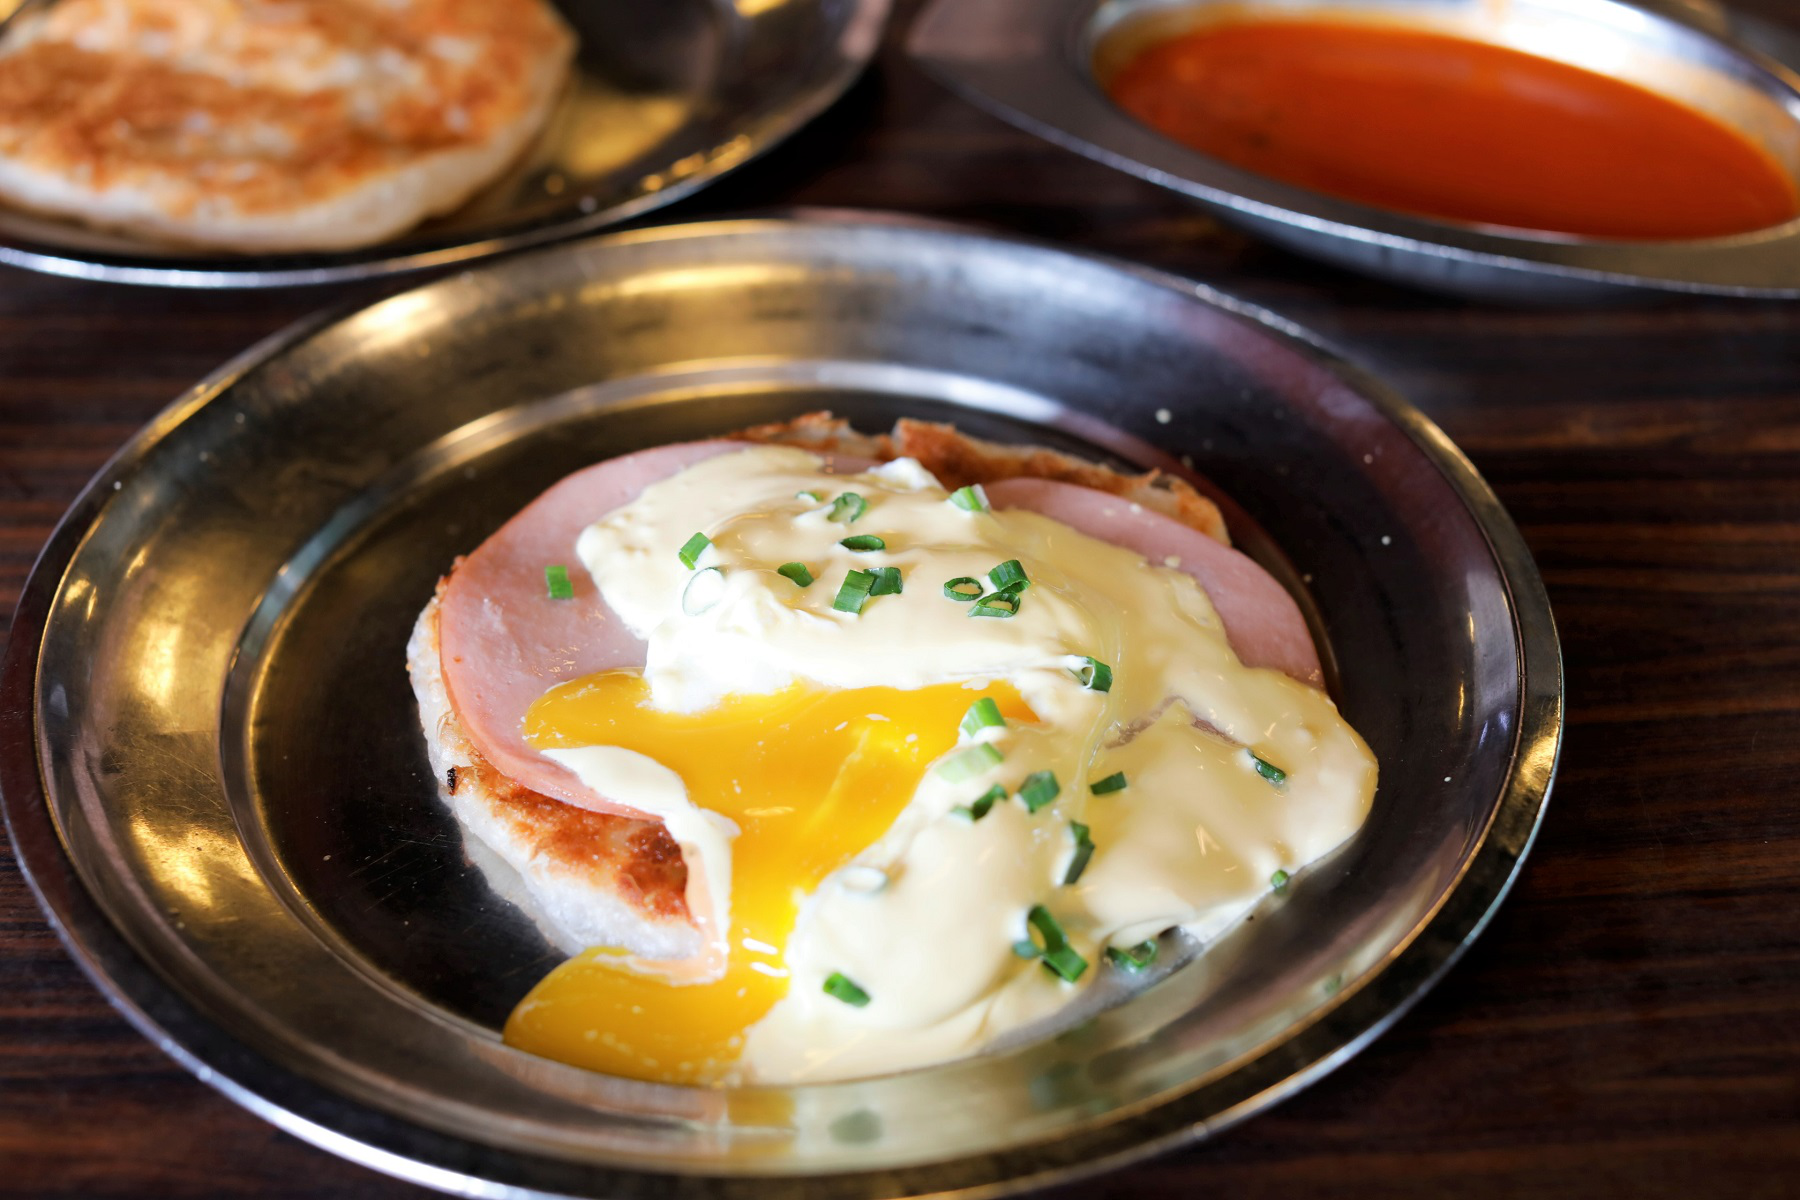Prata: (0, 0, 588, 258)
